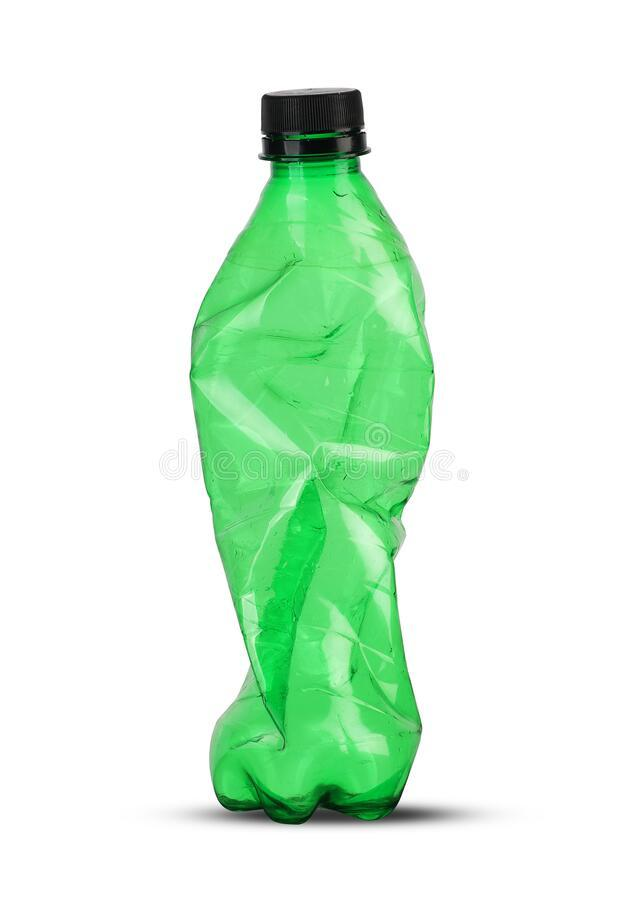plastic: (187, 87, 436, 825)
